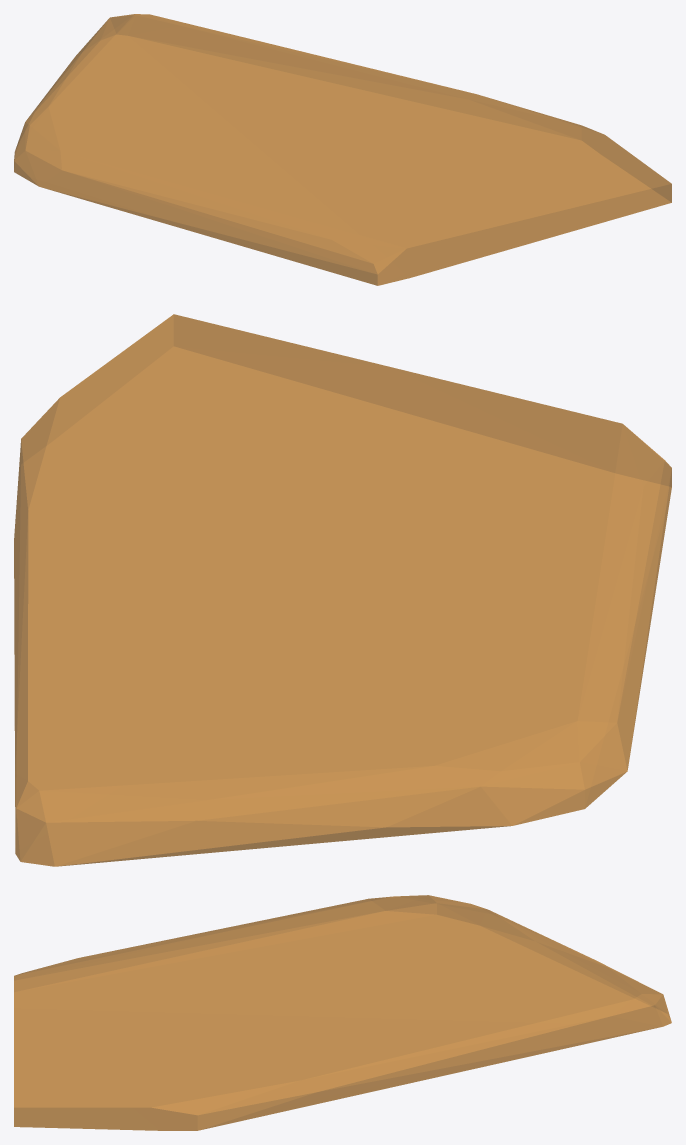
The picture shows the model from 3 angles, top to bottom: view 1: azimuth 30°, elevation 25°; view 2: azimuth 150°, elevation 25°; view 3: azimuth 270°, elevation 25°; orthographic projection. The views are drawn at different scales.
Parts seen in each view (by area): view 1: Shape_IndexedFaceSet.011_Shape_IndexedFaceSet.5450; view 2: Shape_IndexedFaceSet.011_Shape_IndexedFaceSet.5450; view 3: Shape_IndexedFaceSet.011_Shape_IndexedFaceSet.5450.
Boxes of the visible parts, box(x1,y1,x2,y2) form: Shape_IndexedFaceSet.011_Shape_IndexedFaceSet.5450: box(14, 14, 671, 285); Shape_IndexedFaceSet.011_Shape_IndexedFaceSet.5450: box(14, 314, 671, 866); Shape_IndexedFaceSet.011_Shape_IndexedFaceSet.5450: box(14, 895, 671, 1130).
Size of the model in its own units: 0.0558 by 0.0036 by 0.0693.
